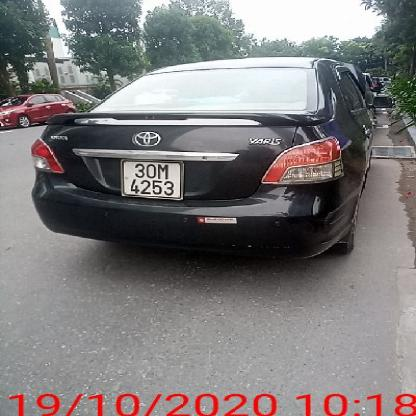biensoxe: (117, 161, 184, 201)
